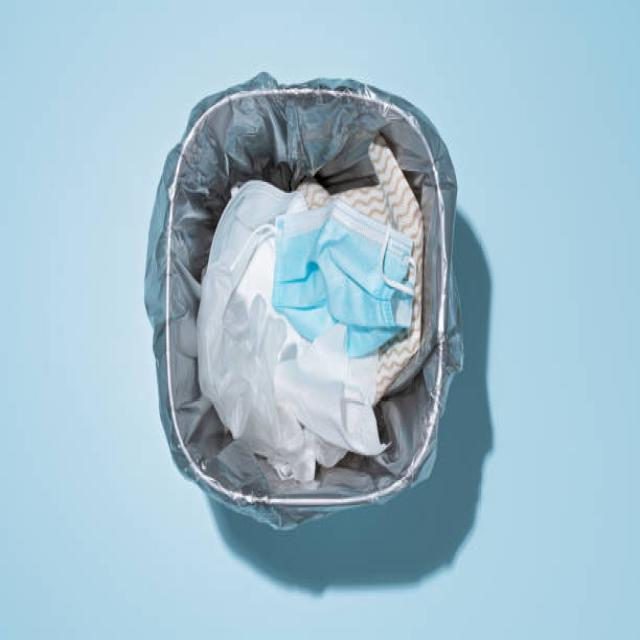plastic: (218, 309, 318, 458)
trash: (158, 116, 449, 499)
